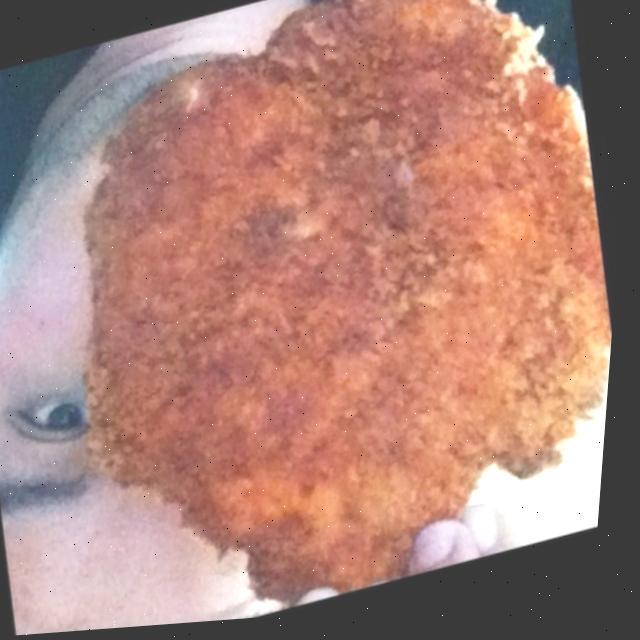鸡肉料理 含炸鸡: (4, 0, 640, 638)
